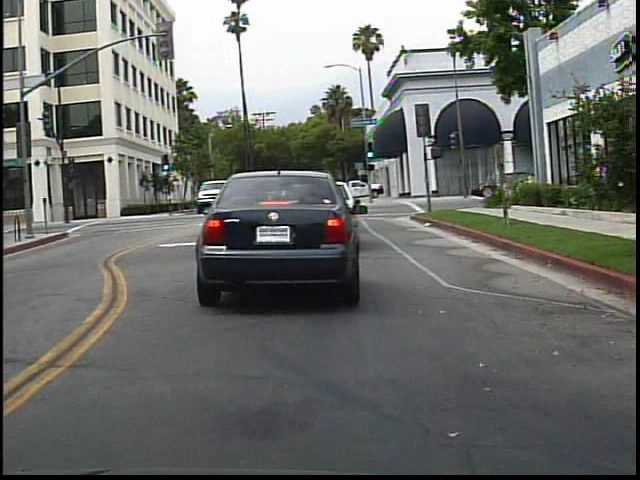person: (482, 159, 512, 208)
